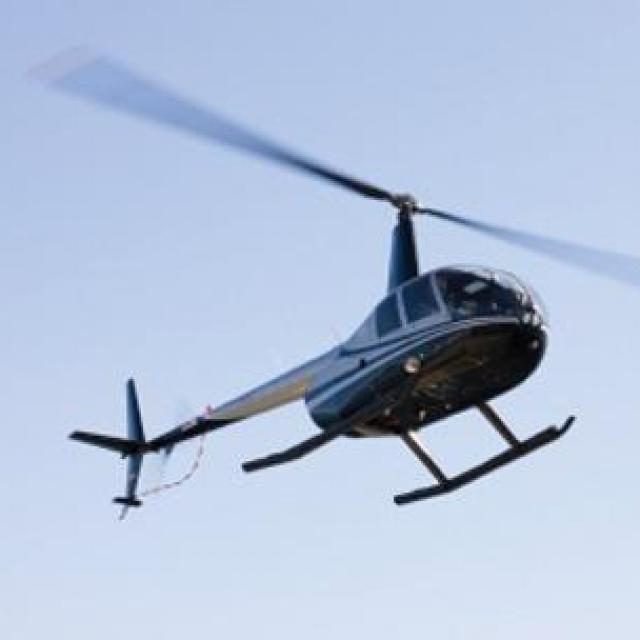helicopter: (68, 70, 578, 519)
